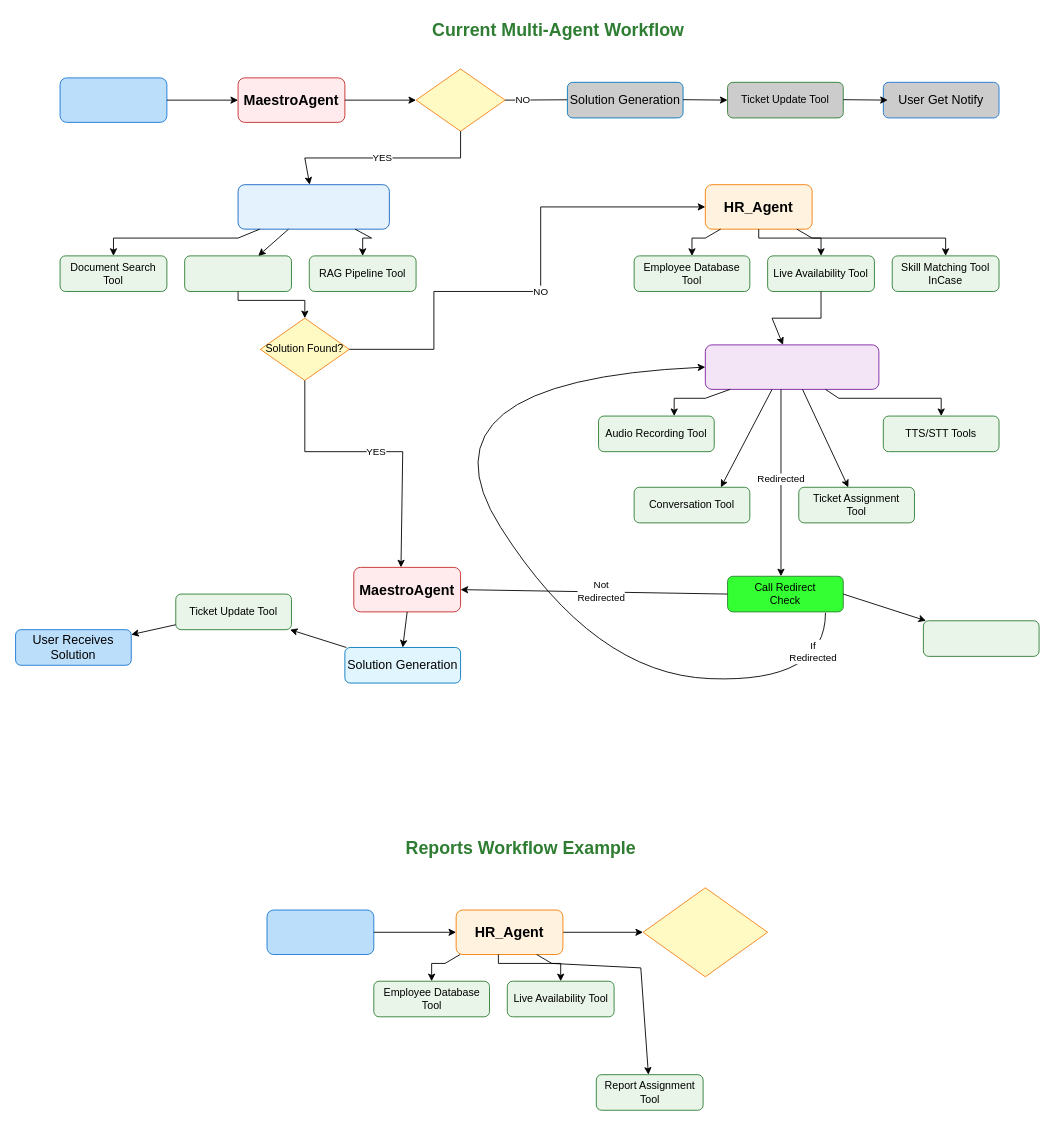
This 1055x1126 diagram has some shape labels left out. The shapes that lost their labels are listed below. From the top down, each one's box as (x1, y1, x2, y2) in pixels, then its label:
(59, 77, 167, 122): User Submits Ticket
(415, 68, 505, 131): Within SCOPE
(237, 184, 389, 229): DataGuardianAgent
(184, 255, 291, 291): Vector Store Tool
(704, 344, 879, 389): VocalAssistantAgent
(922, 620, 1039, 656): Employee_find Tool
(266, 909, 374, 955): User Submit Report
(642, 887, 768, 977): Notify The Right Employee
